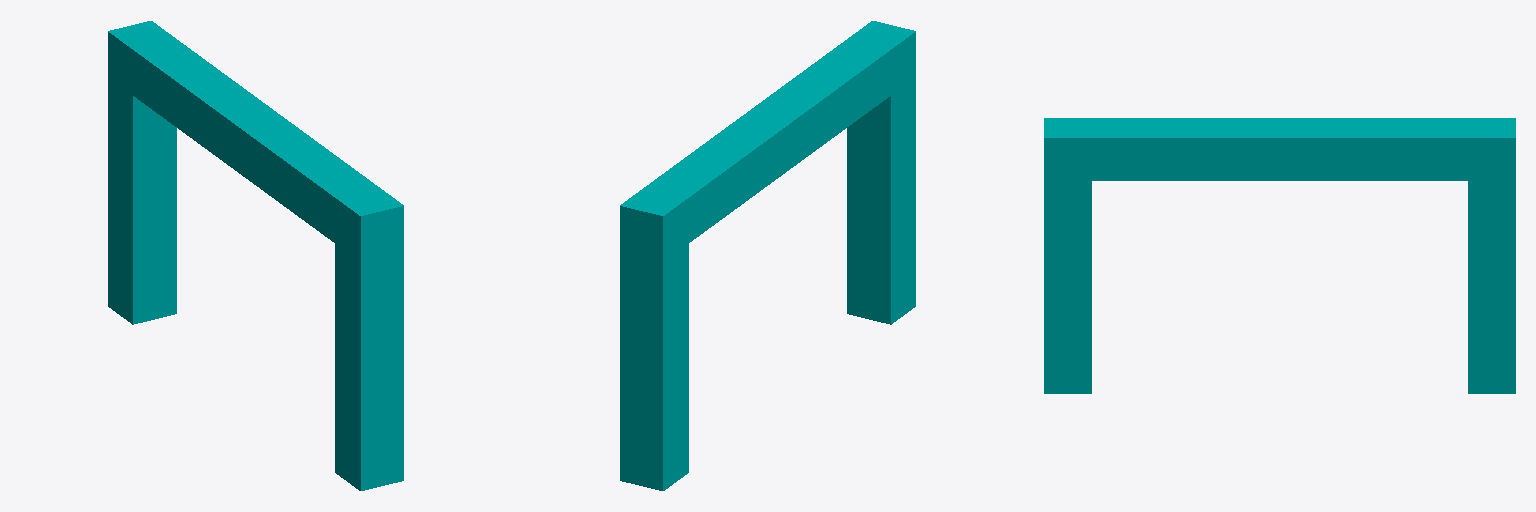
URDF robot description (obstacle):
<?xml version="1.0" ?>
<robot name="obstacle">

  <material name="black">
    <color rgba="0.0 0.0 0.0 1.0"/>
  </material>

  <material name="gray">
    <color rgba="0.5 0.5 0.5 1.0"/>
  </material>

  <material name="Aquamarine">
    <color rgba="0.364 0.733 0.608 1.0"/>
  </material>

  <material name="Aqua">
    <color rgba="0.0 0.733 0.733 1.0"/>
  </material>

  <link name="world"/>
  <joint name="base" type="fixed">
    <origin rpy="0 0 0" xyz="2 -0.05 0"/>
    <parent link="world"/>
    <child link="goalpostL"/>
  </joint>

  <link name="goalpostL">
    <visual>
      <origin rpy="0 0 0" xyz="0.5 0 0.0625"/>
      <geometry>
        <box size="0.025 0.025 0.125"/>
      </geometry>
      <material name="Aqua"/>
    </visual>

    <collision>
      <origin rpy="0 0 0" xyz="0.5 0 0.0625"/>
      <geometry>
        <box size="0.025 0.025 0.125"/>
      </geometry>
    </collision>

    <inertial>
      <mass value="100.0"/>
      <inertia ixx="1.0" ixy="0.0" ixz="0.0" iyy="1.0" iyz="0.0" izz="1.0"/>
    </inertial>
  </link>

  <joint name="cornerL" type="fixed">
    <origin rpy="0 0 0" xyz="0.5 0 0.125"/>
    <parent link="goalpostL"/>
    <child link="crossbar"/>
  </joint>

  <link name="crossbar">
    <visual>
      <origin rpy="0 0 0" xyz="0 -0.1125 0.0125"/>
      <geometry>
        <box size="0.025 0.25 0.025"/>
      </geometry>
      <material name="Aqua"/>
    </visual>

    <collision>
      <origin rpy="0 0 0" xyz="0 -0.1125 0.0125"/>
      <geometry>
        <box size="0.025 0.25 0.025"/>
      </geometry>
    </collision>

    <inertial>
      <mass value="100.0"/>
      <inertia ixx="1.0" ixy="0.0" ixz="0.0" iyy="1.0" iyz="0.0" izz="1.0"/>
    </inertial>
  </link>

  <joint name="cornerR" type="revolute">
    <origin rpy="0 0 0" xyz="0 -0.25 0"/>
    <parent link="crossbar"/>
    <child link="goalpostR"/>
    <axis xyz="0 0 1"/>
  </joint>

  <link name="goalpostR">
    <visual>
      <origin rpy="0 0 0" xyz="0 0.025 -0.0625"/>
      <geometry>
        <box size="0.025 0.025 0.125"/>
      </geometry>
      <material name="Aqua"/>
    </visual>

    <collision>
      <origin rpy="0 0 0" xyz="0 0.025 -0.0625"/>
      <geometry>
        <box size="0.025 0.025 0.125"/>
      </geometry>
    </collision>

    <inertial>
      <mass value="100.0"/>
      <inertia ixx="1.0" ixy="0.0" ixz="0.0" iyy="1.0" iyz="0.0" izz="1.0"/>
    </inertial>
  </link>
</robot>

--- Facts derived from the render (not from the file) ---
3 views of the same robot in one strip: view 1: azimuth 30°, elevation 25°; view 2: azimuth 150°, elevation 25°; view 3: azimuth 270°, elevation 25° (orthographic).
Robot: obstacle — 4 links, 3 joints (1 revolute, 2 fixed); root link world; default pose: all joints at 0.
Links seen in each view (by area): view 1: crossbar, goalpostR, goalpostL; view 2: crossbar, goalpostL, goalpostR; view 3: crossbar, goalpostL, goalpostR.
Boxes of the visible links, left/top/right/bottom form: crossbar: left=108, top=21, right=403, bottom=261; goalpostR: left=335, top=244, right=403, bottom=490; goalpostL: left=108, top=78, right=176, bottom=324; crossbar: left=620, top=21, right=915, bottom=261; goalpostL: left=620, top=244, right=688, bottom=490; goalpostR: left=847, top=78, right=915, bottom=324; crossbar: left=1044, top=118, right=1515, bottom=180; goalpostL: left=1468, top=181, right=1515, bottom=393; goalpostR: left=1044, top=181, right=1091, bottom=393.
Bounding box of the posed robot: 0.025 × 0.25 × 0.15 m (x, y, z).
Geometry: primitives only (box / cylinder / sphere), no mesh files.